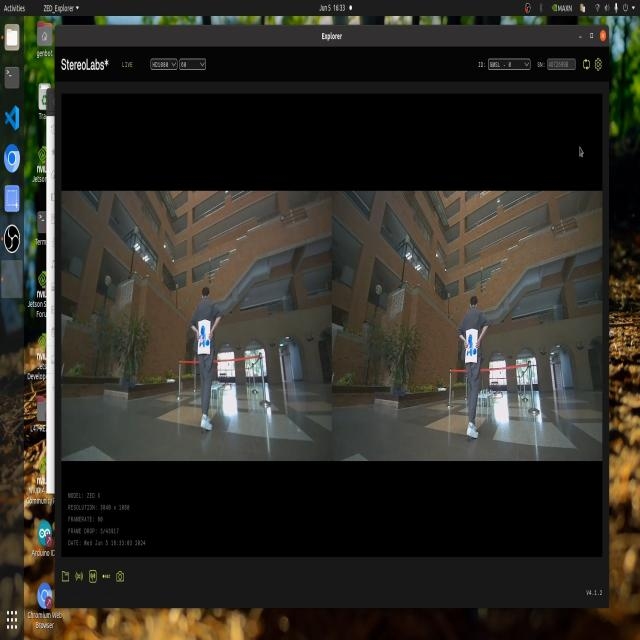blue: (459, 330, 478, 365), (200, 320, 216, 355)
